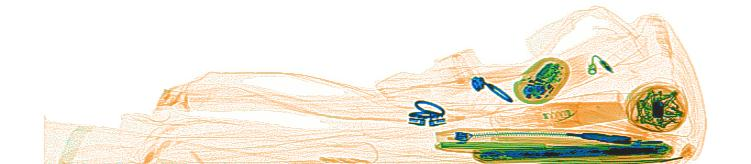plasticBottleWithaNozzle: (517, 88, 628, 132)
